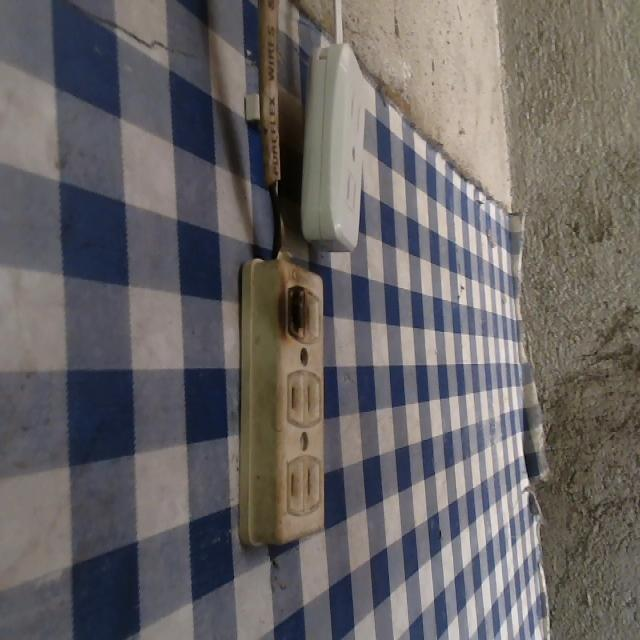-: (276, 277, 309, 348)
